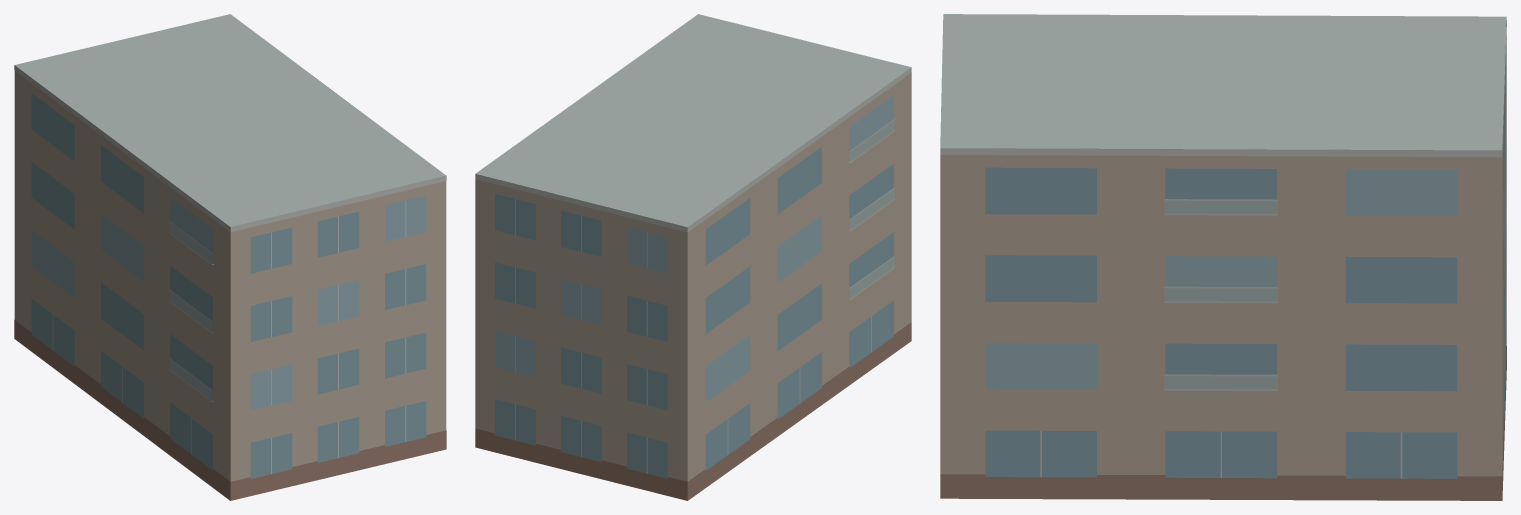
Rendered from survey-upis-32803096.glb.
3 renders of one model, left to right at view 1: azimuth 30°, elevation 25°; view 2: azimuth 150°, elevation 25°; view 3: azimuth 270°, elevation 25°, orthographic. The views are drawn at different scales.
Parts seen in each view (by area): view 1: survey-upis-32803096.tmp; view 2: survey-upis-32803096.tmp; view 3: survey-upis-32803096.tmp.
Part boxes in pixels (left/top/right/bottom): survey-upis-32803096.tmp: left=14, top=14, right=446, bottom=500; survey-upis-32803096.tmp: left=475, top=14, right=911, bottom=500; survey-upis-32803096.tmp: left=940, top=14, right=1506, bottom=500.
Size of the model in its own units: 10.54 by 12.6 by 18.47.
